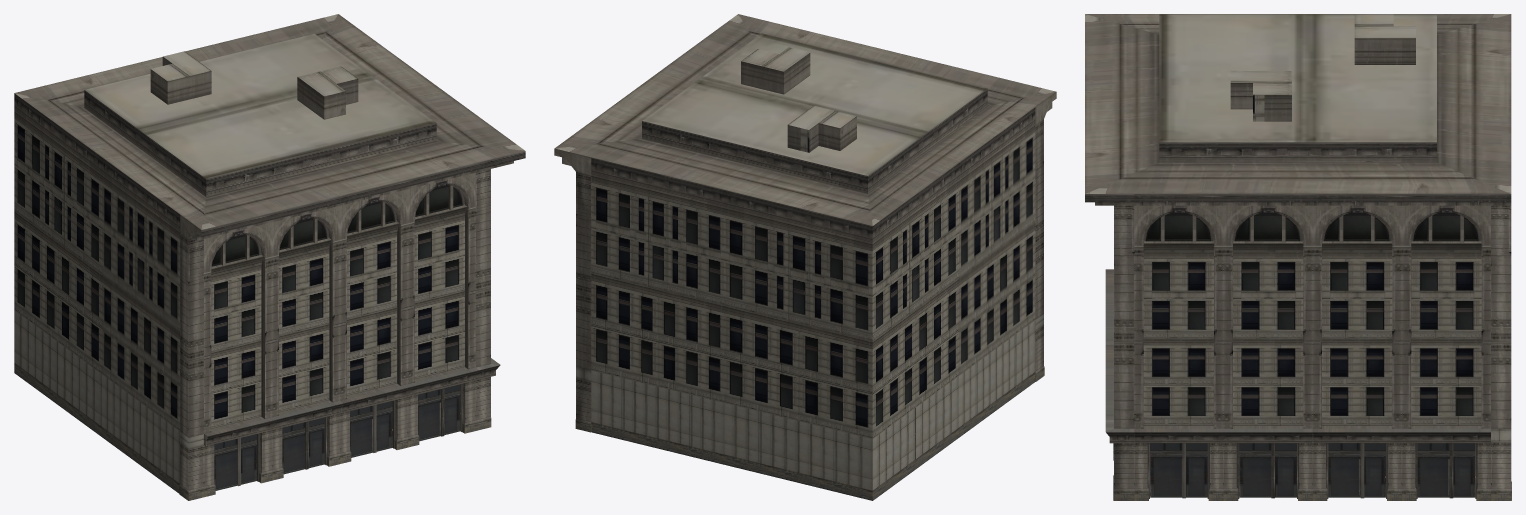
Rendered from resid2.glb.
3 renders of one model, left to right at view 1: azimuth 30°, elevation 25°; view 2: azimuth 150°, elevation 25°; view 3: azimuth 270°, elevation 25°, orthographic. The views are drawn at different scales.
Parts seen in each view (by area): view 1: resid2; view 2: resid2; view 3: resid2.
Boxes of the visible parts, x1,y1,x2,y2 form: resid2: [14, 14, 525, 500]; resid2: [554, 14, 1056, 500]; resid2: [1085, 14, 1511, 500].
Size of the model in its own units: 31.62 by 29.88 by 31.62.
Materials: 2 (2 with a texture image).
